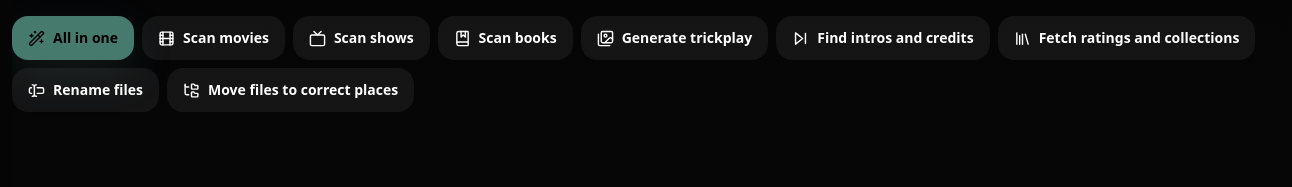
Scenario: the Library Maintenance action group › counts the libraries a category action was accepted for
Click the button "Scan movies".
click(214, 38)  # box left=142, top=16, right=285, bottom=60
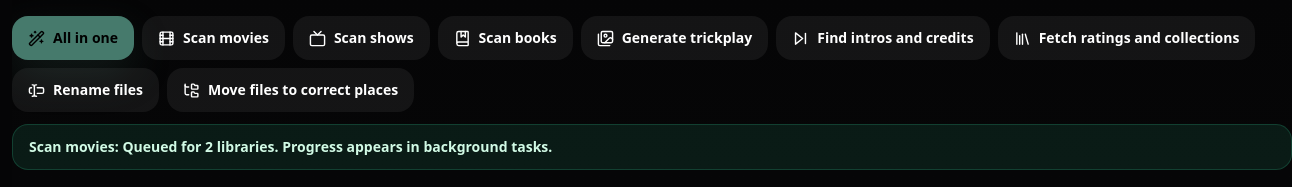
Check: the message shows "2", box left=29, top=137, right=552, bottom=156
